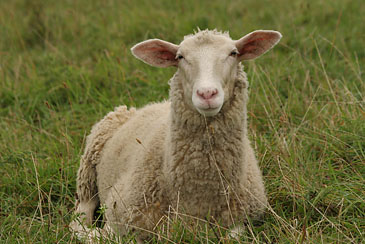koyun: (74, 26, 284, 243)
